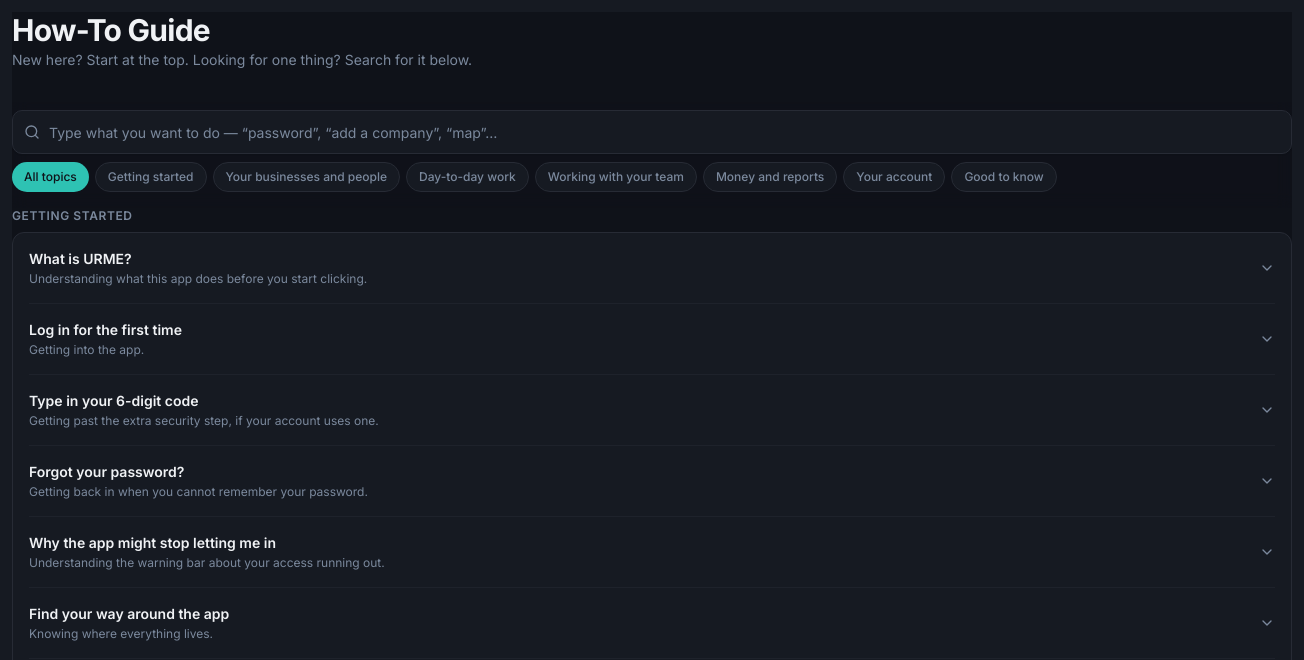
Test case: How-To Guide page › clears the query from the search box, restoring the full list
The image size is (1304, 660).
Replace the text in the search field named "Search help topics" with "password" at {"x": 652, "y": 132}, box [12, 110, 1292, 154]
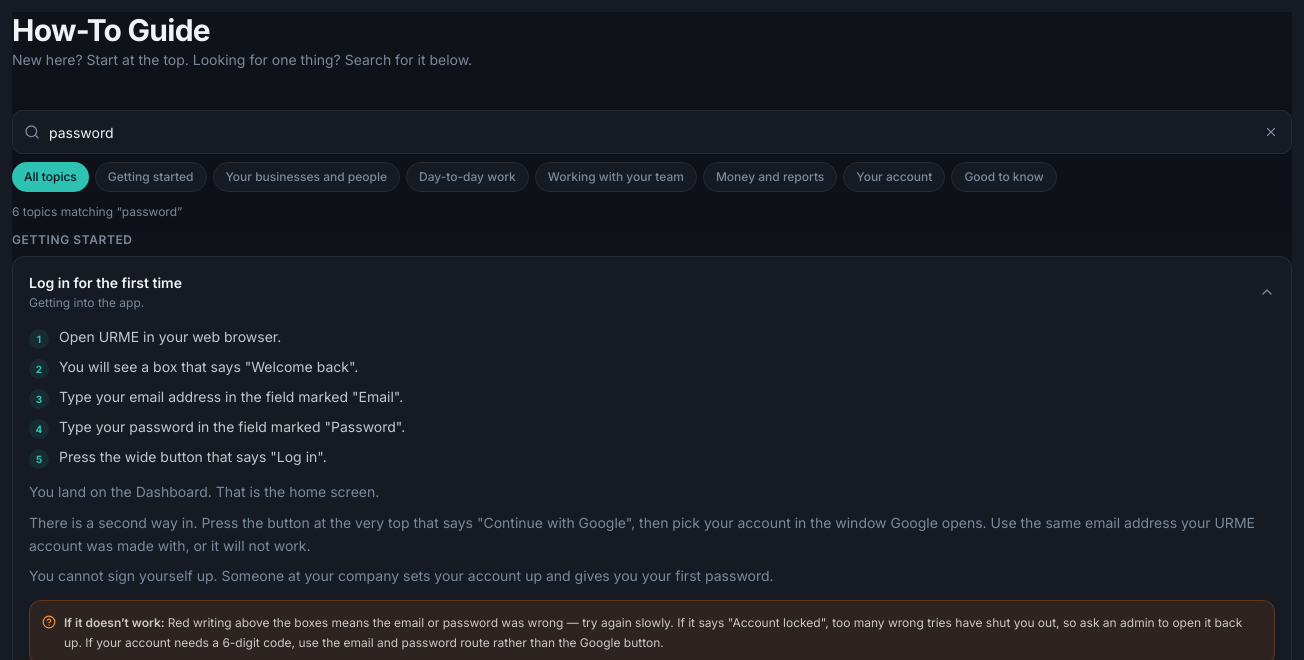
Click the button named "Clear search".
click(1271, 132)  # box [1258, 119, 1284, 145]
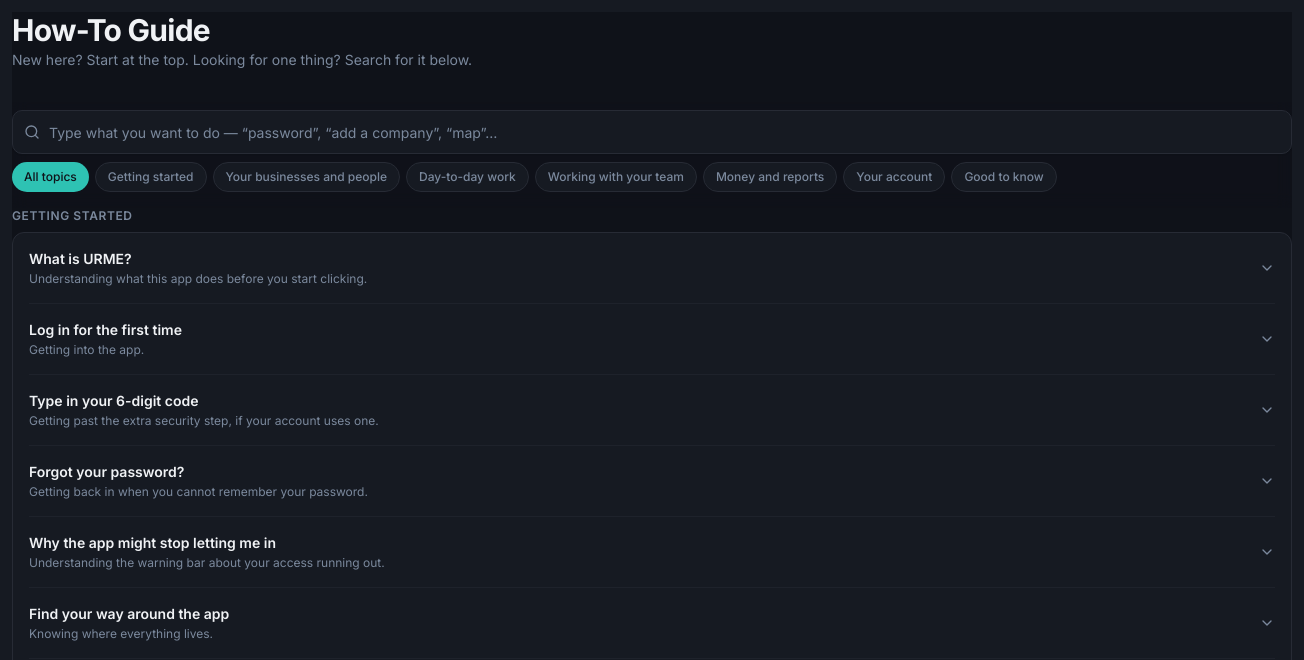
Check: the search field named "Search help topics" is empty, box [12, 110, 1292, 154]
